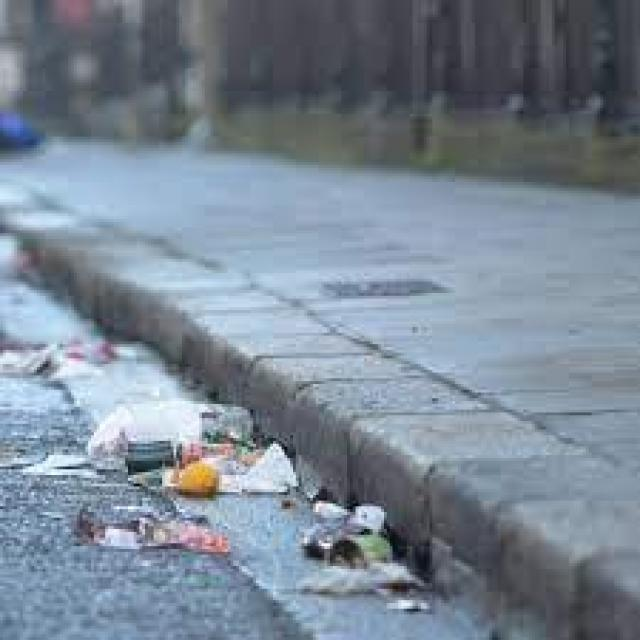curb: (430, 446, 635, 597), (344, 408, 569, 545), (280, 378, 490, 506), (240, 349, 425, 461)
